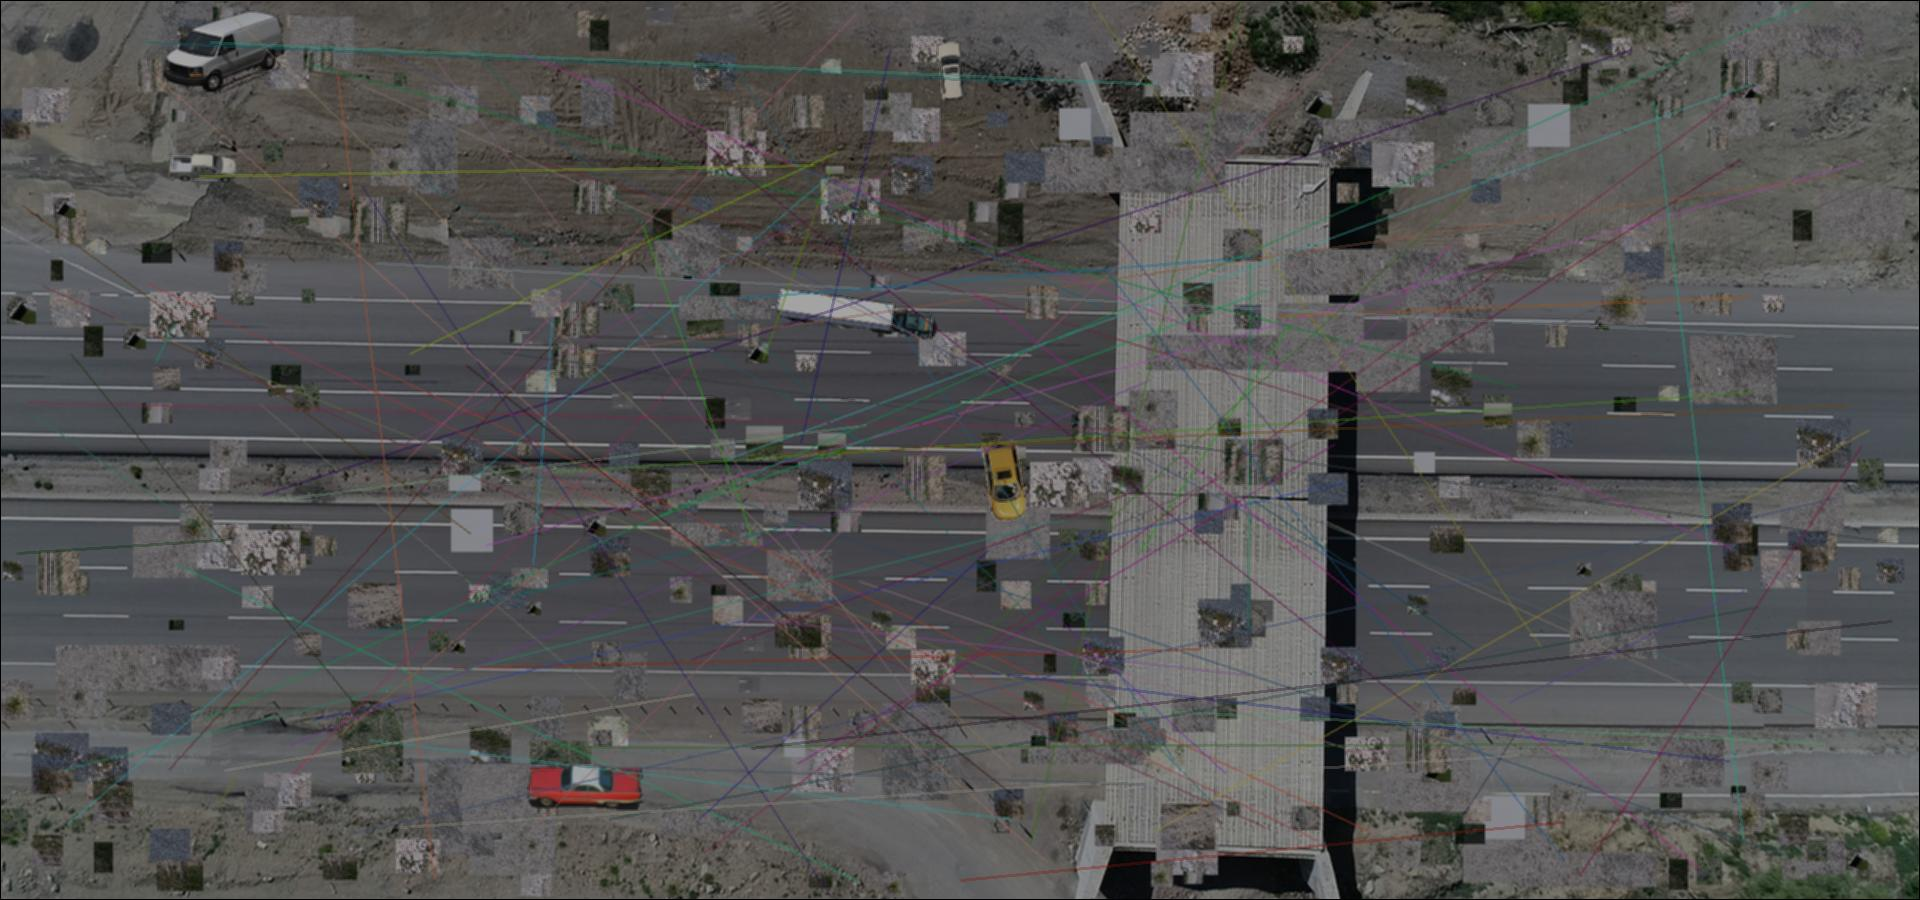arac: (163, 10, 285, 96), (774, 285, 937, 340), (523, 760, 656, 811), (976, 440, 1030, 524), (167, 151, 239, 187), (936, 42, 967, 100)
